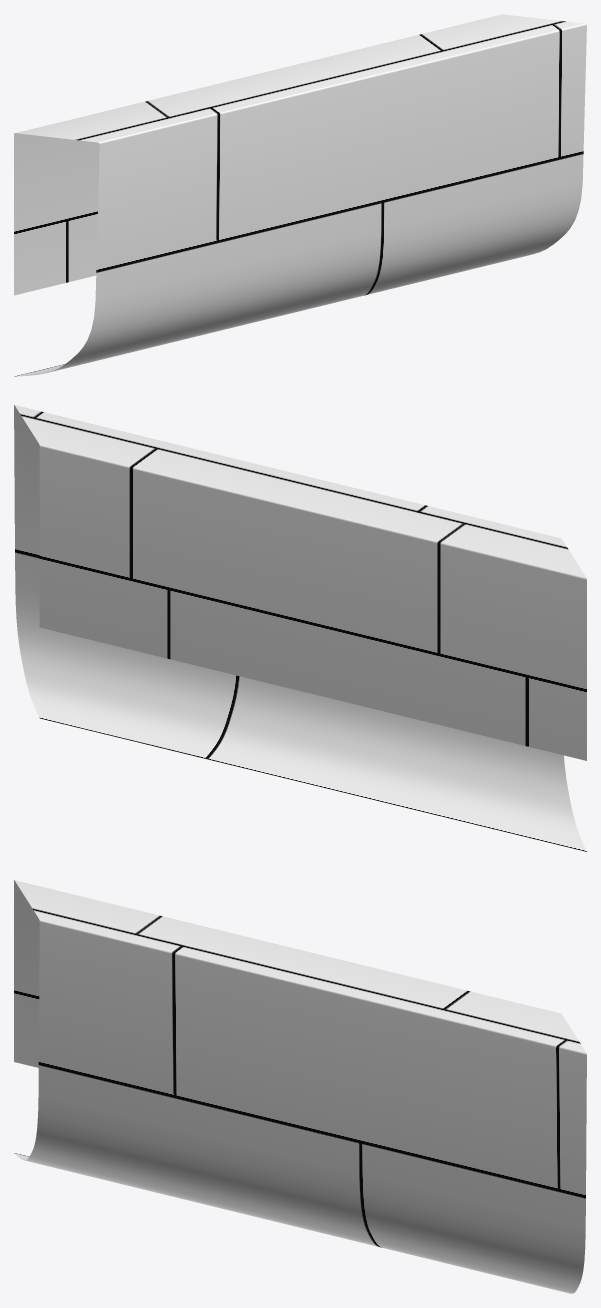
Rendered from Parapet01_350cmAngle6.FBX.
3 views of the same model, one above another, from view 1: azimuth 30°, elevation 25°; view 2: azimuth 150°, elevation 25°; view 3: azimuth 330°, elevation 25° (orthographic). The views are drawn at different scales.
Visible parts, largest first — view 1: Parapet01_350cmAngle6; view 2: Parapet01_350cmAngle6; view 3: Parapet01_350cmAngle6.
Boxes of the visible parts, x1,y1,x2,y2 form: Parapet01_350cmAngle6: (14,14,586,376); Parapet01_350cmAngle6: (14,405,586,851); Parapet01_350cmAngle6: (14,880,586,1293).
Bounding box in the file's own units: 350 × 150 × 35.13.
